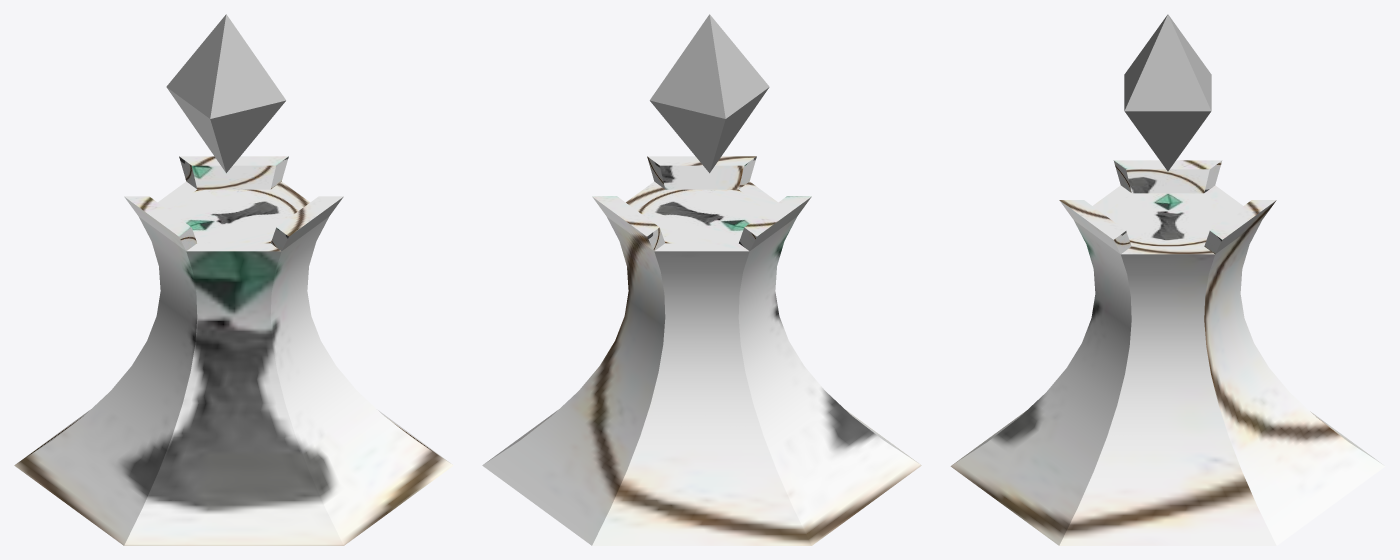
File: BasicTower.FBX
3 views of the same model, side by side, from view 1: azimuth 30°, elevation 25°; view 2: azimuth 150°, elevation 25°; view 3: azimuth 270°, elevation 25° (orthographic).
Visible parts, largest first — view 1: Cylinder002, Pyramid004; view 2: Cylinder002, Pyramid004; view 3: Cylinder002, Pyramid004.
Boxes of the visible parts, <box> form: Cylinder002: <box>14,156,453,545</box>; Pyramid004: <box>166,14,286,173</box>; Cylinder002: <box>482,156,921,545</box>; Pyramid004: <box>649,14,769,173</box>; Cylinder002: <box>950,160,1385,545</box>; Pyramid004: <box>1124,14,1211,171</box>.
Size of the model in its own units: 34.64 by 45.5 by 40.
